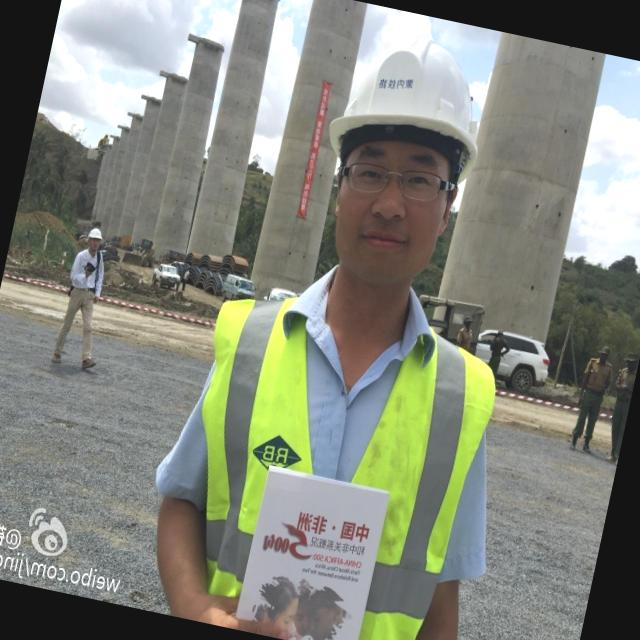goggles: (312, 132, 470, 228)
helmet: (321, 25, 498, 179)
vest: (148, 286, 509, 640)
